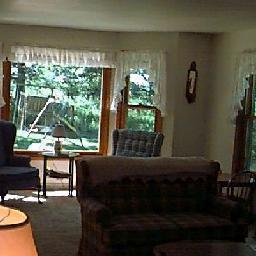Ventana: (10, 57, 102, 154)
